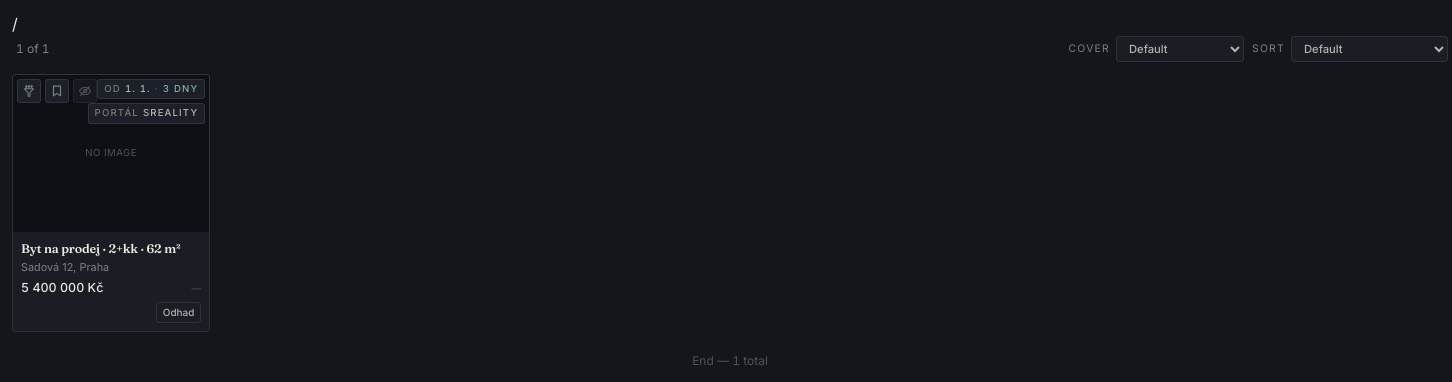
Test case: <ListingCards> the collection popover is a real popup › announces itself, and Escape closes it and hands focus back
Step 1. Click the button named "Uložit do kolekce" → (57, 91), box [45,79,69,103]
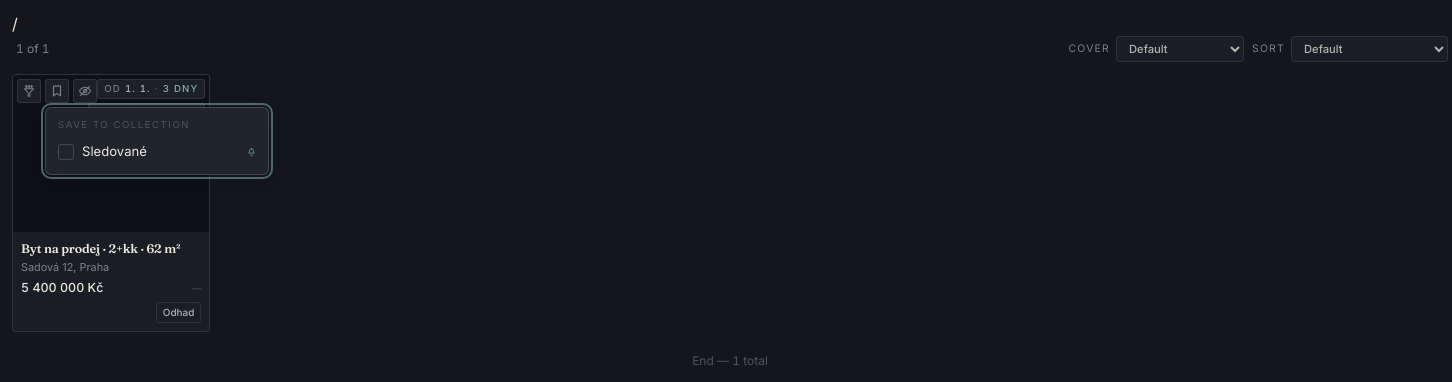
Expected: the button named "Uložit do kolekce" is expanded, [45,79,69,103]
Expected: the button "✓ Sledované" is shown, [52,136,262,168]
Step 2. Press Escape
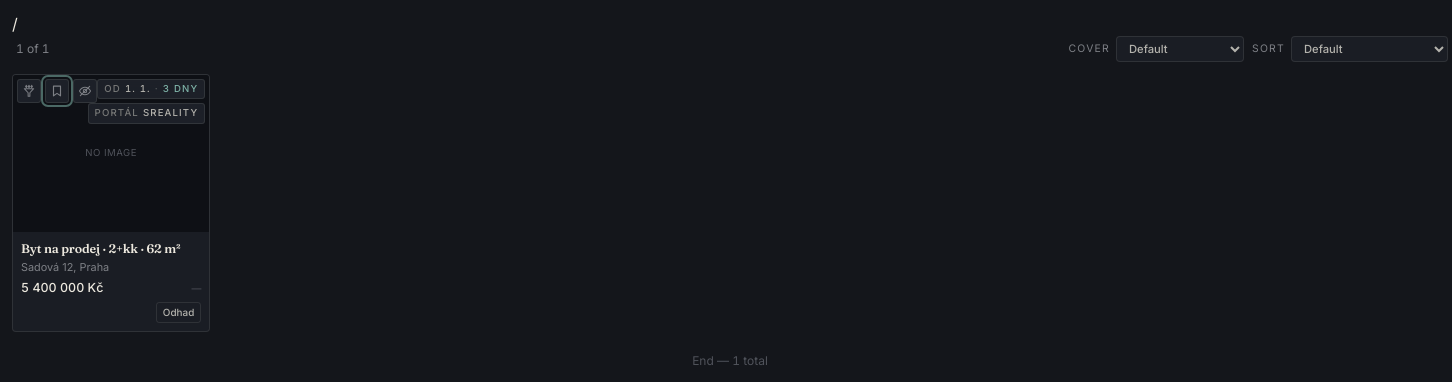
Expected: the button named "Uložit do kolekce" is collapsed, [45,79,69,103]
